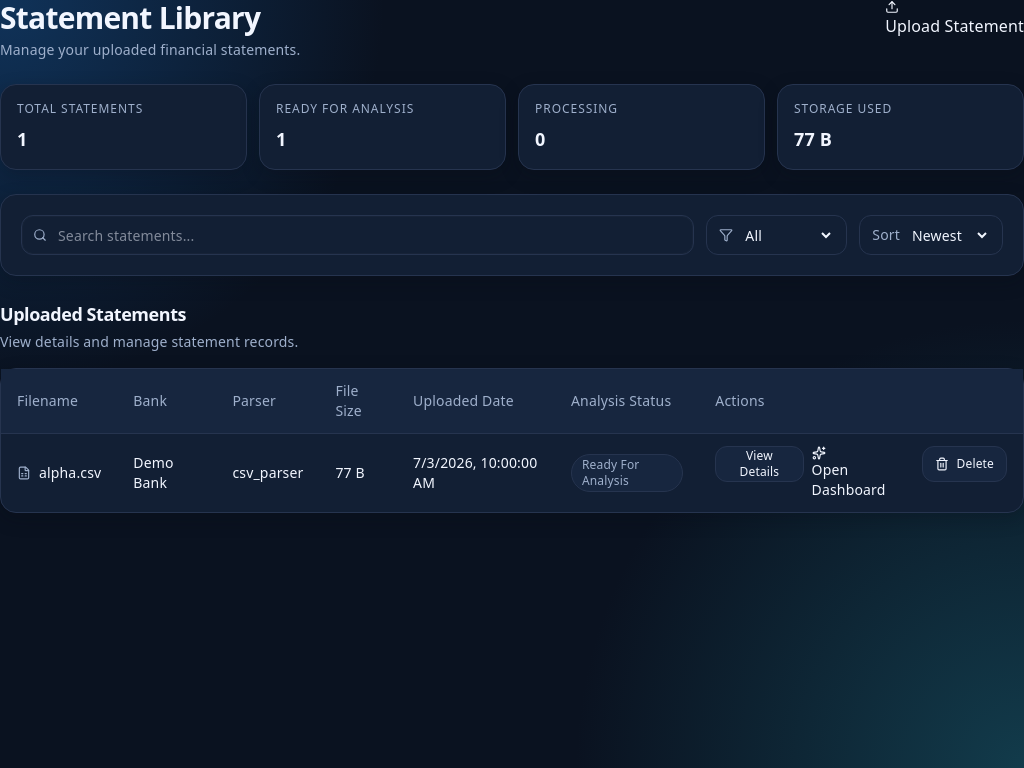
Test: AppStatementsPage › loads statement transactions when View Details is clicked
The image size is (1024, 768).
Click the button "View Details" at (759, 464), box x1=715 y1=446 x2=804 y2=482
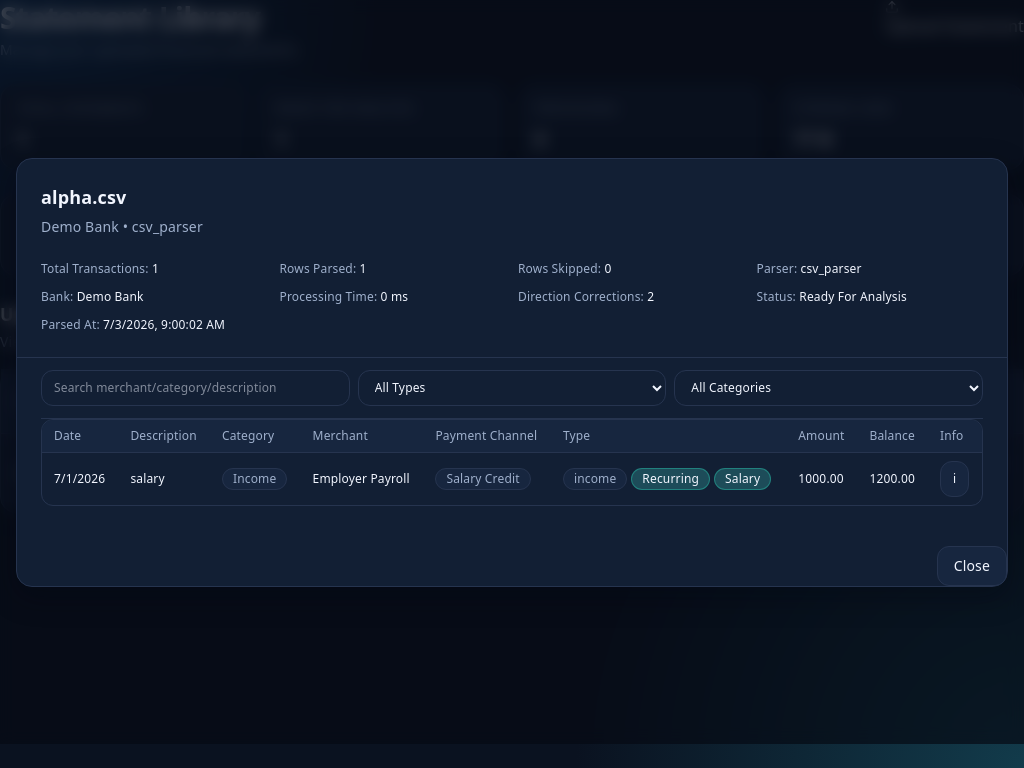
Check: the text "Employer Payroll" is shown, box x1=301 y1=452 x2=423 y2=504
Check: the button "Close" is shown, box x1=937 y1=546 x2=1007 y2=586
Check: the text "Demo Bank • csv_parser" is shown, box x1=41 y1=216 x2=203 y2=236
